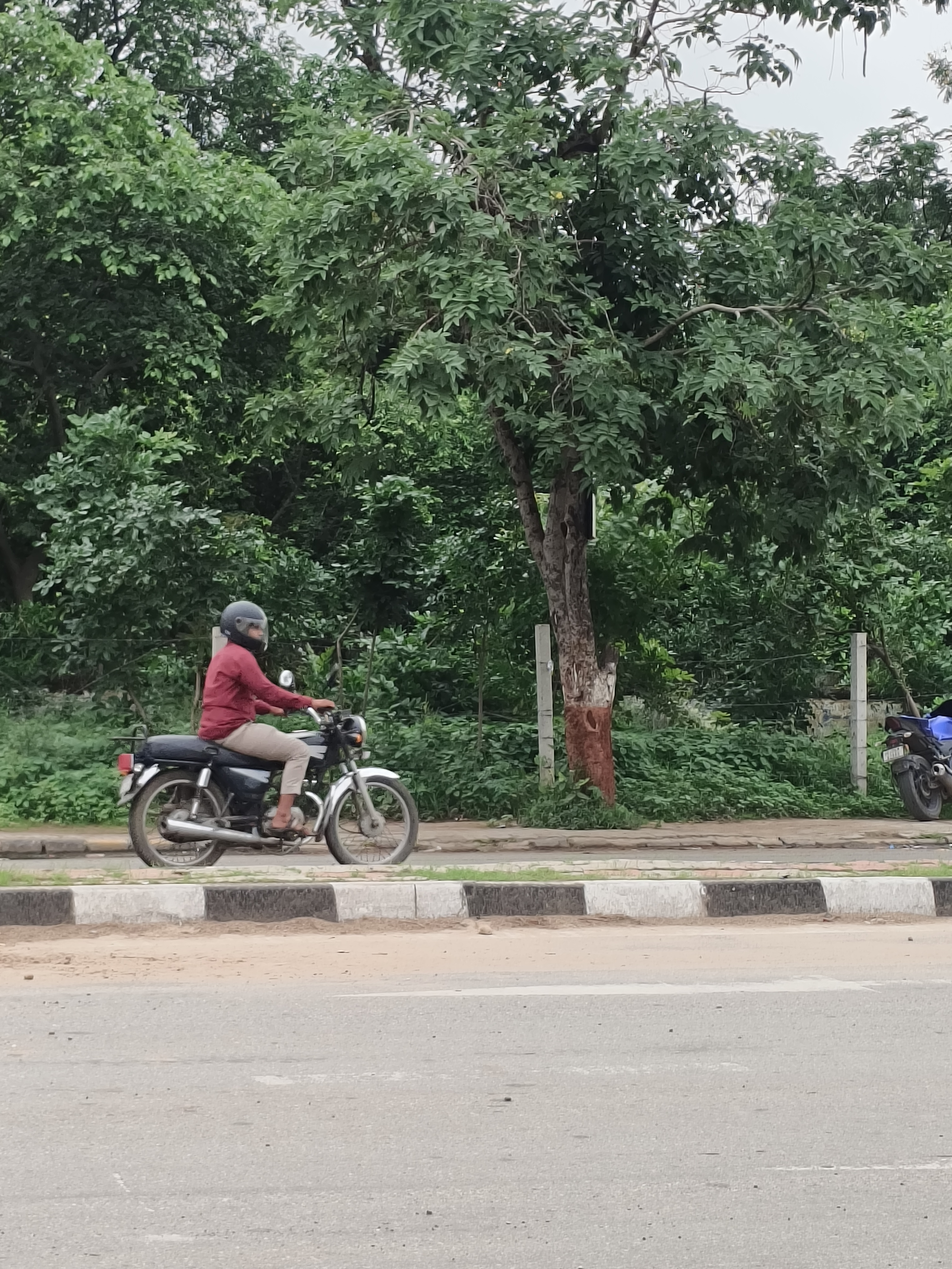BikeWithRider: (105, 592, 431, 879)
Helmet: (211, 593, 277, 657)
